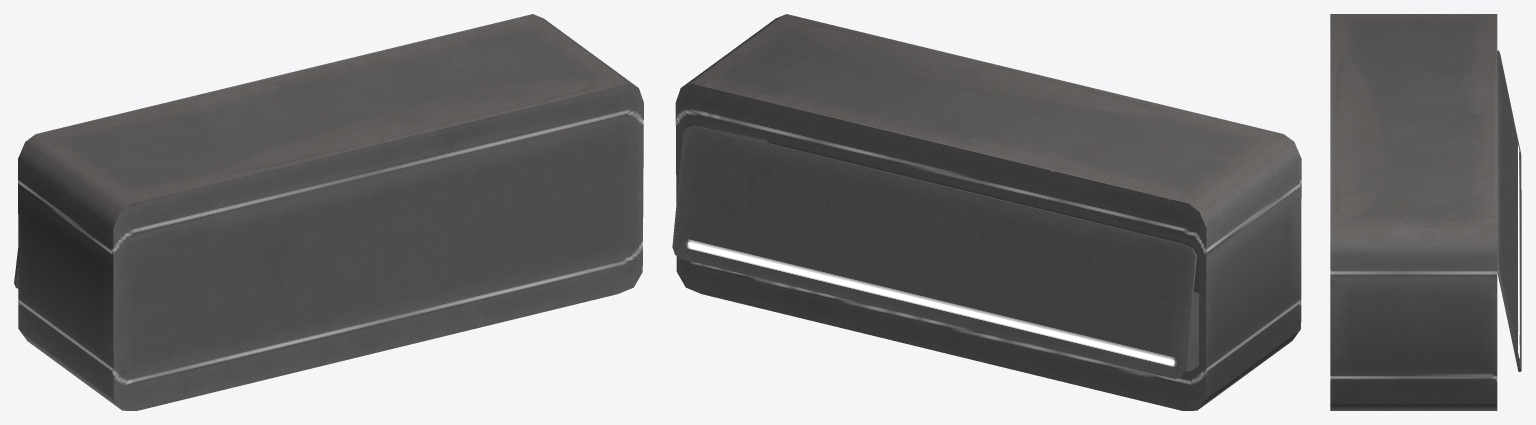
Rendered from SM_Bookshelf_02.fbx.
The picture shows the model from 3 angles, left to right: view 1: azimuth 30°, elevation 25°; view 2: azimuth 150°, elevation 25°; view 3: azimuth 270°, elevation 25°; orthographic projection. The views are drawn at different scales.
Parts seen in each view (by area): view 1: SM_Bookshelf_02_LOD0; view 2: SM_Bookshelf_02_LOD0; view 3: SM_Bookshelf_02_LOD0.
Boxes of the visible parts, x1=… form: SM_Bookshelf_02_LOD0: x1=14, y1=14, x2=643, y2=410; SM_Bookshelf_02_LOD0: x1=672, y1=14, x2=1301, y2=410; SM_Bookshelf_02_LOD0: x1=1330, y1=14, x2=1521, y2=410.
Bounding box in the file's own units: 255 × 90.63 × 96.02.
